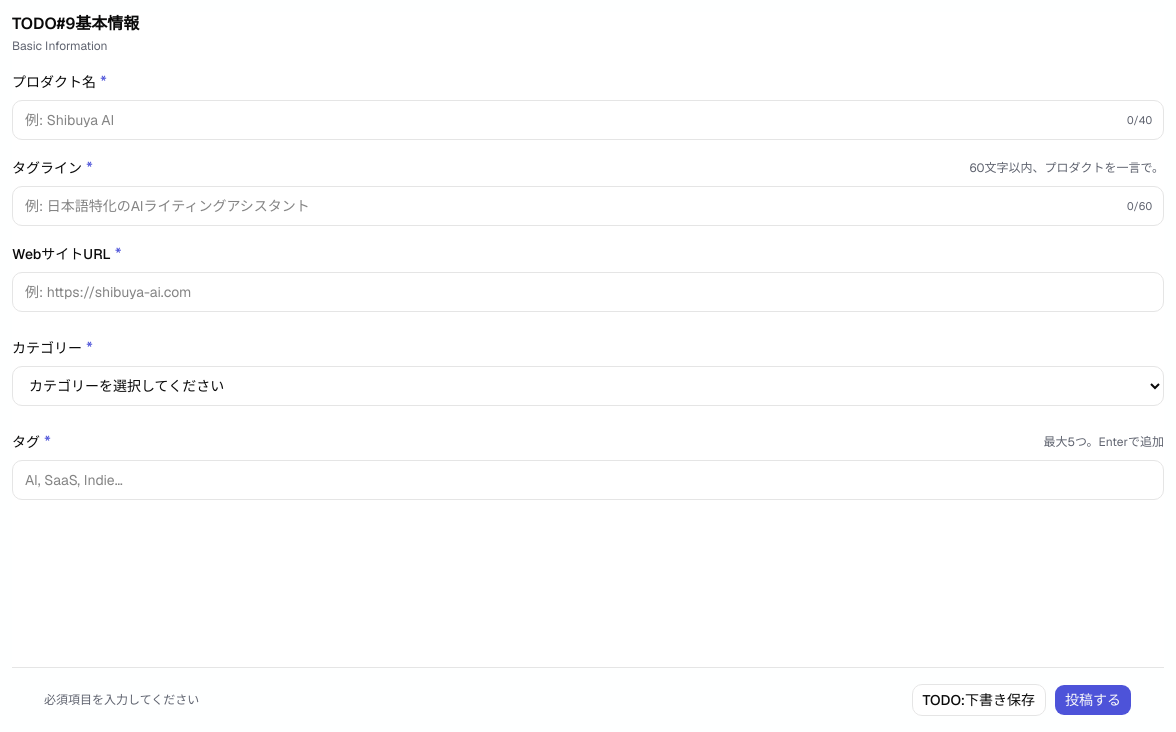
Test: BasicInfoSection › バリデーション › プロダクト名が未入力の場合、エラーが表示される
The width and height of the screenshot is (1176, 732).
Click the button "投稿する" at (1093, 700), box [1054,684,1132,716]
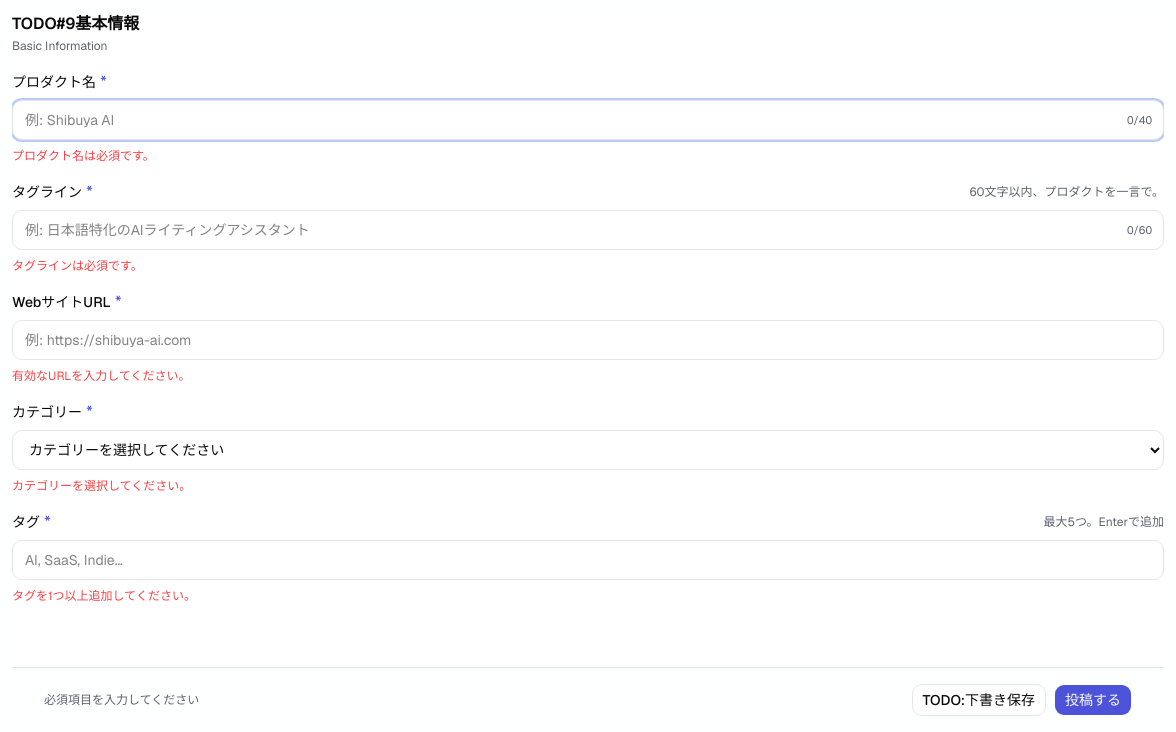
Expected: the text "プロダクト名は必須です。" is shown, [12,148,155,164]
